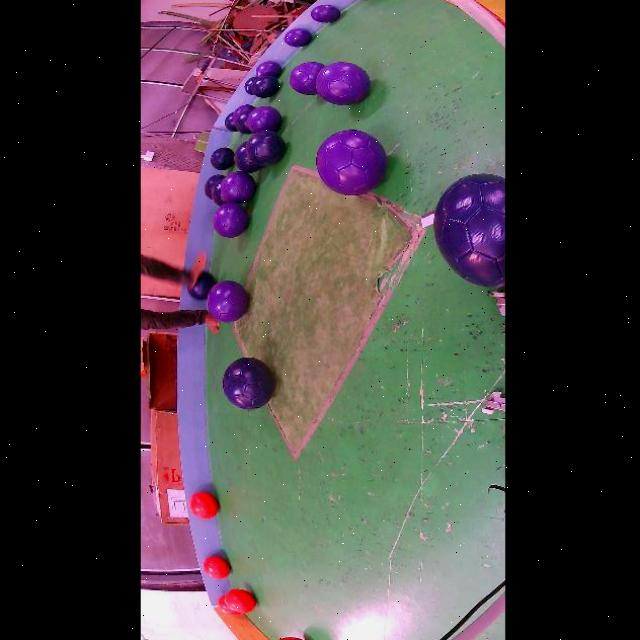B: (433, 173, 504, 287), (222, 357, 274, 410), (245, 130, 284, 166), (233, 142, 263, 173), (188, 271, 216, 300), (251, 76, 278, 98), (209, 148, 233, 171), (203, 174, 223, 199), (235, 112, 251, 134), (211, 179, 223, 206), (223, 112, 235, 131), (244, 76, 256, 95)
P: (316, 130, 385, 196), (314, 62, 369, 105), (207, 281, 249, 323), (212, 202, 247, 238), (288, 62, 323, 95), (219, 172, 255, 204), (246, 106, 280, 133), (283, 29, 311, 47), (311, 5, 338, 23), (255, 61, 280, 78), (232, 105, 254, 123)
R: (223, 590, 255, 614), (189, 492, 217, 519), (202, 557, 228, 579), (217, 596, 238, 615), (278, 638, 303, 640)
